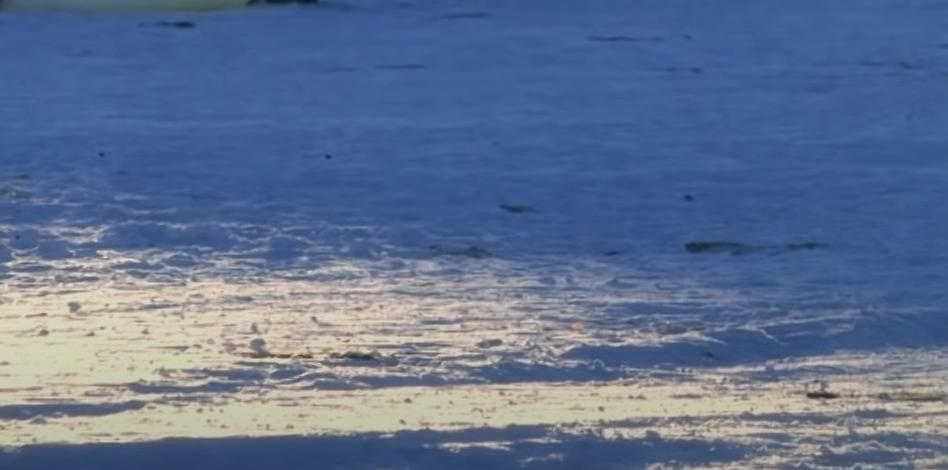Emperor Penguin: (920, 0, 948, 458), (0, 0, 358, 14)
